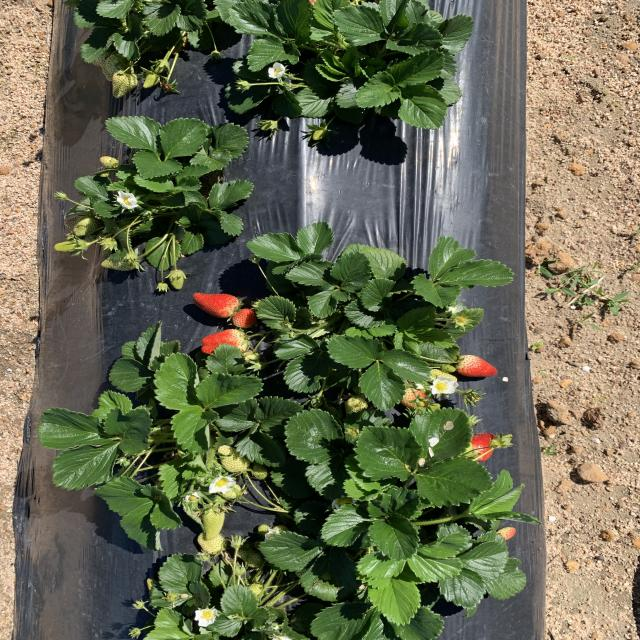unripe: (449, 430, 501, 466), (192, 292, 244, 317), (201, 330, 249, 357), (453, 354, 501, 380), (235, 308, 258, 327)
